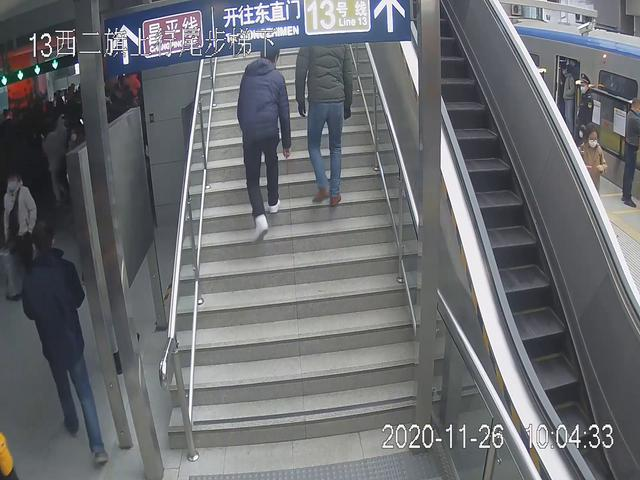person: (16, 212, 109, 467), (236, 36, 293, 248), (294, 31, 355, 210)
